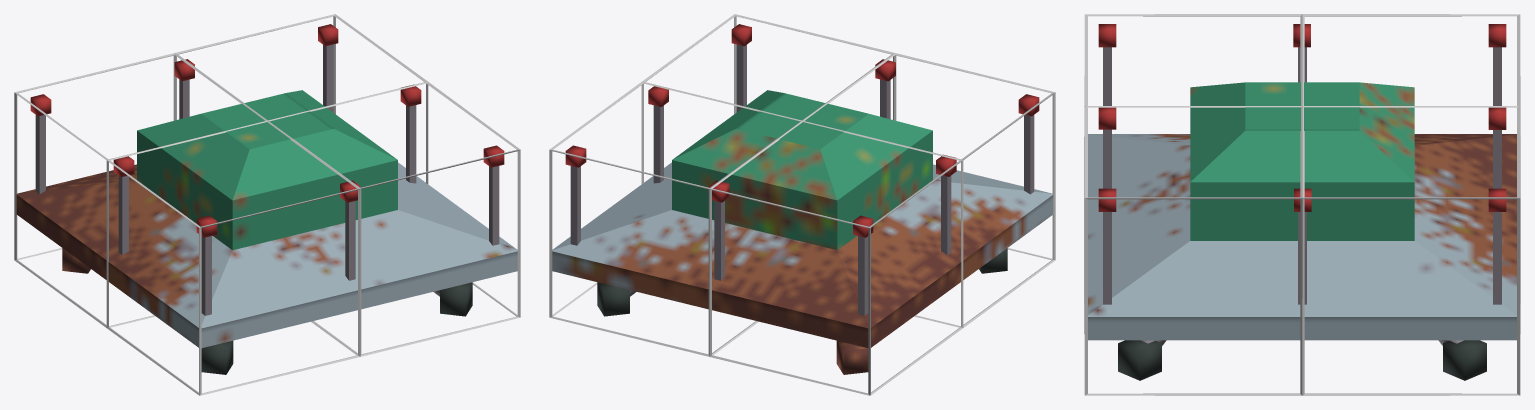
The model's file is Saucer.fbx.
3 views of the same model, side by side, from view 1: azimuth 30°, elevation 25°; view 2: azimuth 150°, elevation 25°; view 3: azimuth 270°, elevation 25° (orthographic). The views are drawn at different scales.
Parts seen in each view (by area): view 1: Cube.006, bounding box; view 2: Cube.006, bounding box; view 3: Cube.006, bounding box.
Boxes of the visible parts, x1,y1,x2,y2 form: Cube.006: (16,24,517,374); bounding box: (14,14,520,395); Cube.006: (552,24,1053,374); bounding box: (549,14,1055,395); Cube.006: (1088,24,1516,380); bounding box: (1084,14,1520,395).
Bounding box in the file's own units: 201 × 101 × 201.
